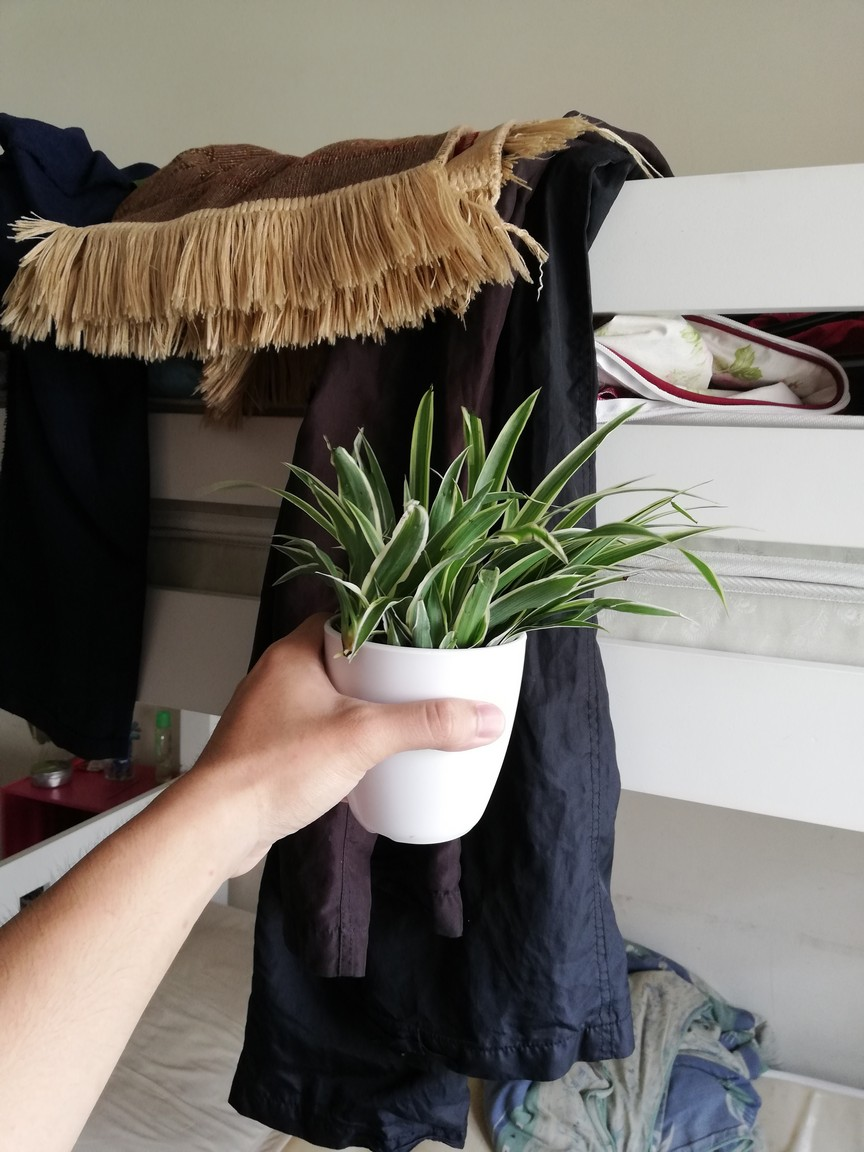daun: (549, 397, 650, 473), (190, 479, 306, 515), (491, 385, 543, 465), (686, 554, 732, 617), (344, 601, 384, 672), (337, 492, 391, 543), (411, 380, 436, 467), (627, 599, 702, 628), (464, 497, 518, 530), (531, 521, 570, 566), (356, 425, 384, 480), (443, 443, 474, 488), (266, 541, 313, 567), (465, 476, 499, 504), (308, 477, 334, 513), (270, 565, 302, 593), (616, 470, 666, 487), (279, 457, 321, 477), (570, 620, 611, 636), (399, 471, 415, 510), (506, 476, 522, 503), (373, 574, 388, 601), (327, 540, 354, 552)
